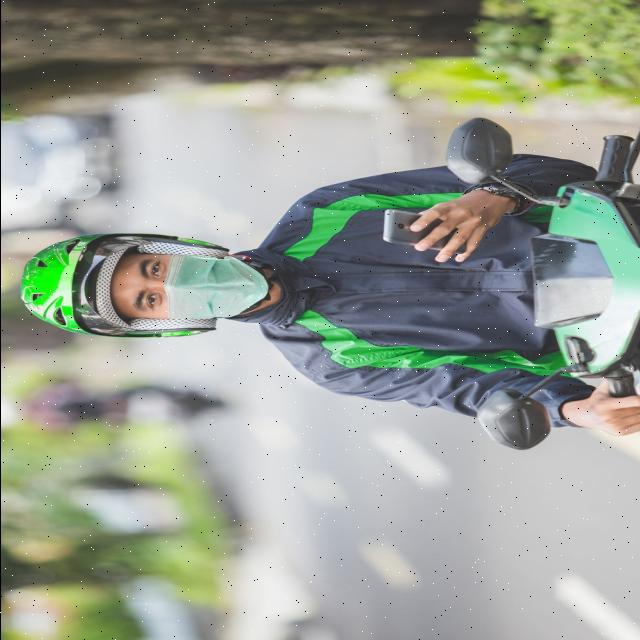Helmet: (19, 233, 271, 339)
